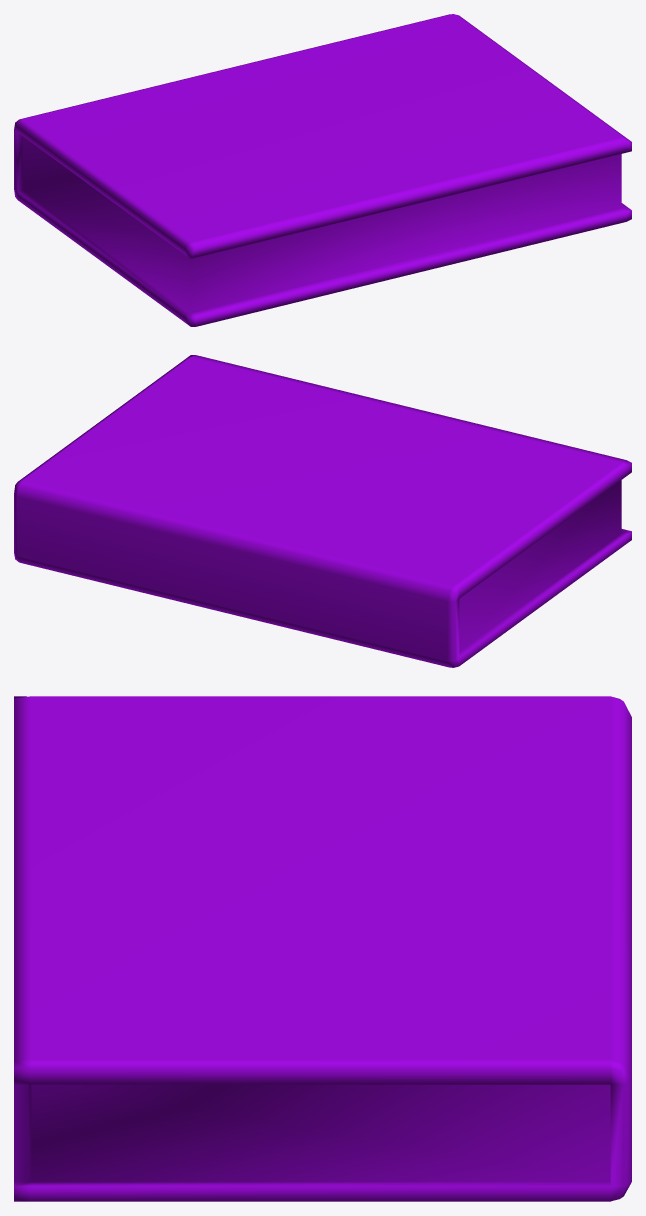
The model's file is Book_01.fbx.
3 renders of one model, top to bottom at view 1: azimuth 30°, elevation 25°; view 2: azimuth 150°, elevation 25°; view 3: azimuth 270°, elevation 25°, orthographic. The views are drawn at different scales.
Parts seen in each view (by area): view 1: Book_01; view 2: Book_01; view 3: Book_01.
Boxes of the visible parts, <box> form: Book_01: <box>14,14,631,326</box>; Book_01: <box>14,355,631,667</box>; Book_01: <box>14,696,631,1201</box>.
Bounding box in the file's own units: 127 × 22.78 × 89.49.
